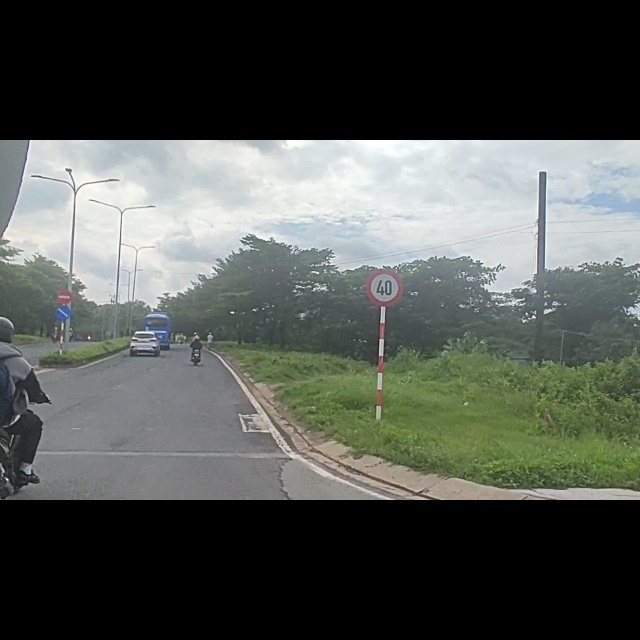bien_hieu_lenh: (363, 228, 405, 300), (54, 263, 73, 294), (55, 295, 71, 324)
